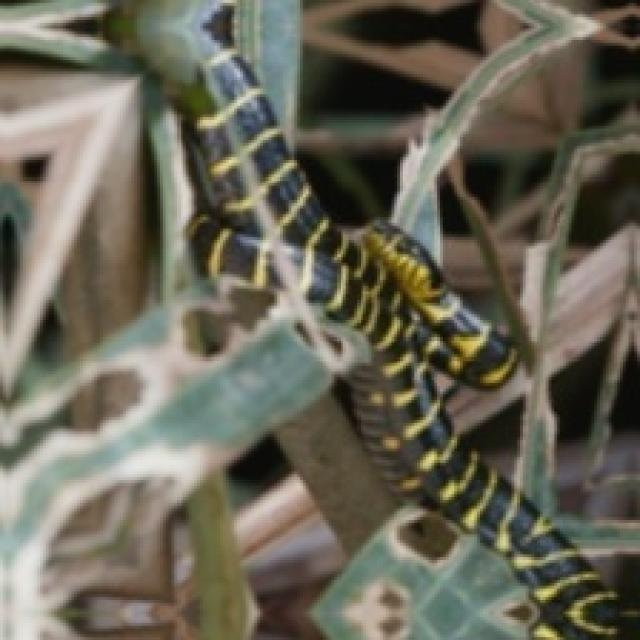mangrove cat snake: (169, 0, 617, 637), (340, 560, 437, 637)
